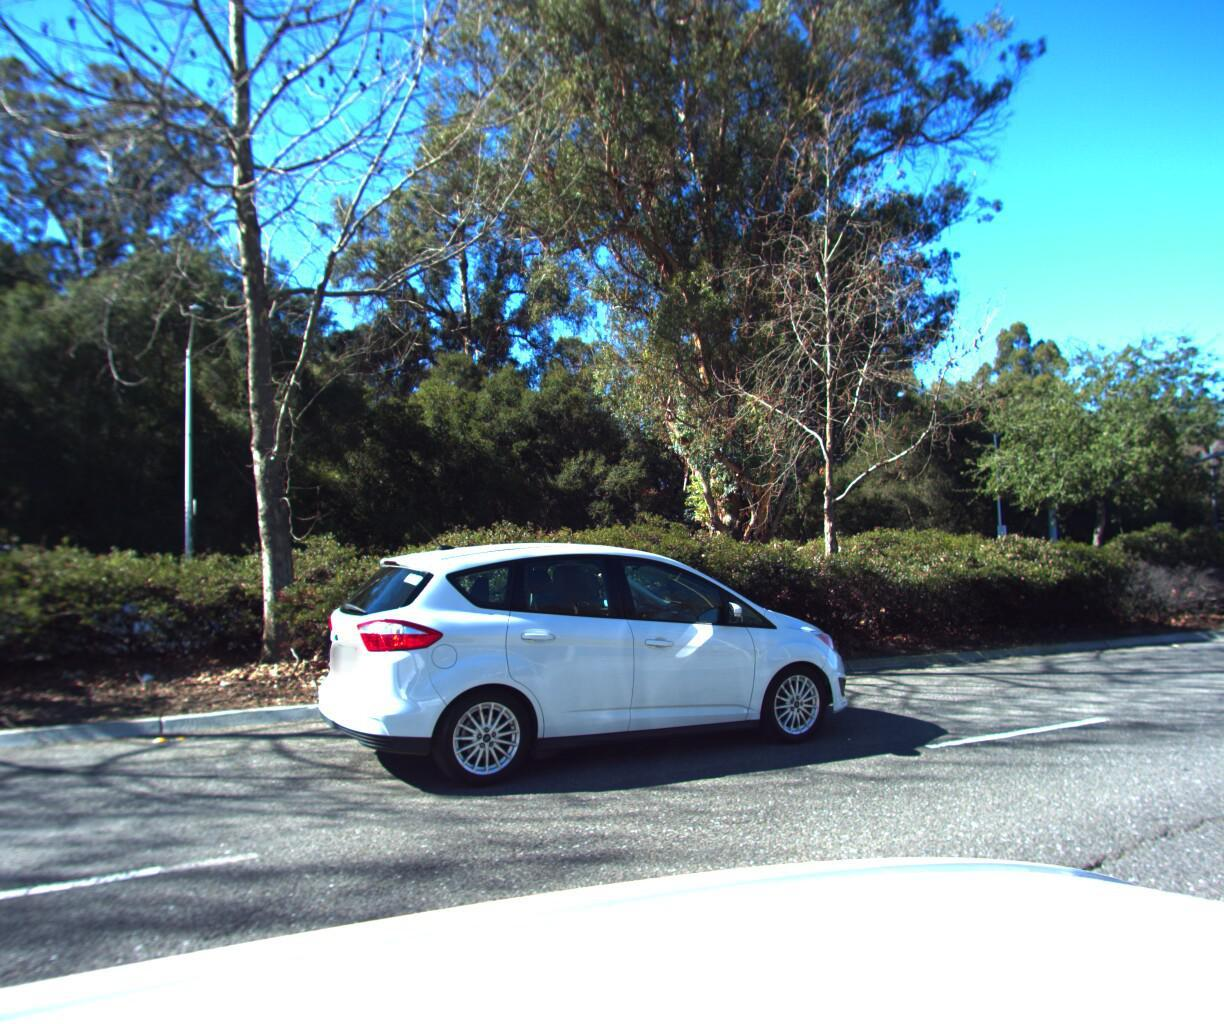car: (308, 521, 897, 805)
